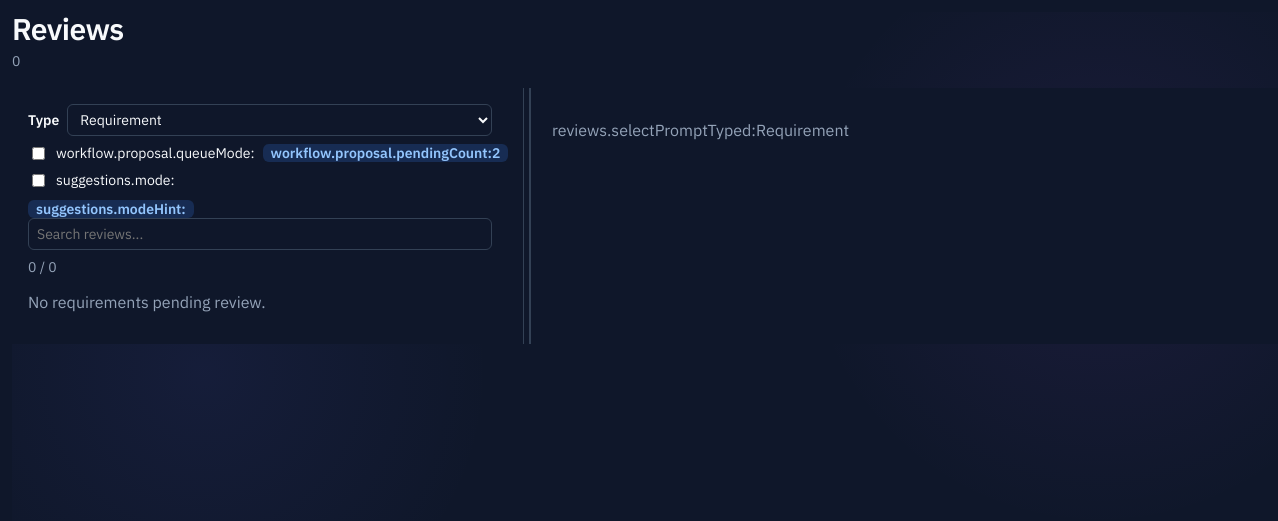
Test: ReviewsView — AI proposals queue (#1089) › falls back to a generic AI label when no proposer was recorded
This screenshot has width=1278, height=521.
Step 1. Click the checkbox with test id "reviews-queue-mode-checkbox" → (38, 153), box [32,146,45,160]
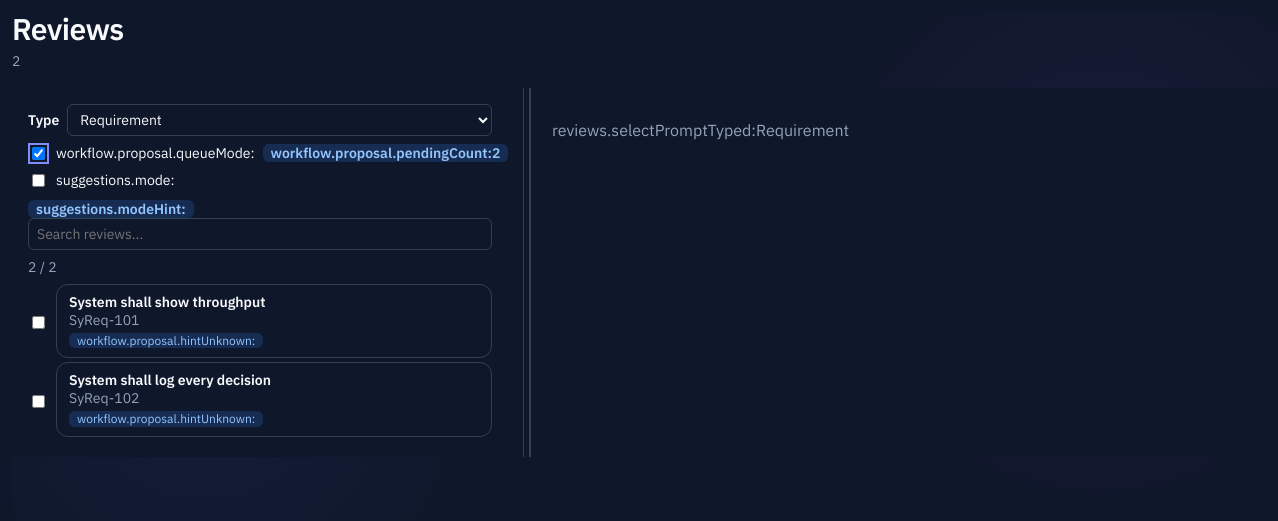
Step 2. Click the button with test id "review-list-item-req-prop-1" → (167, 302), box [56,284,492,358]
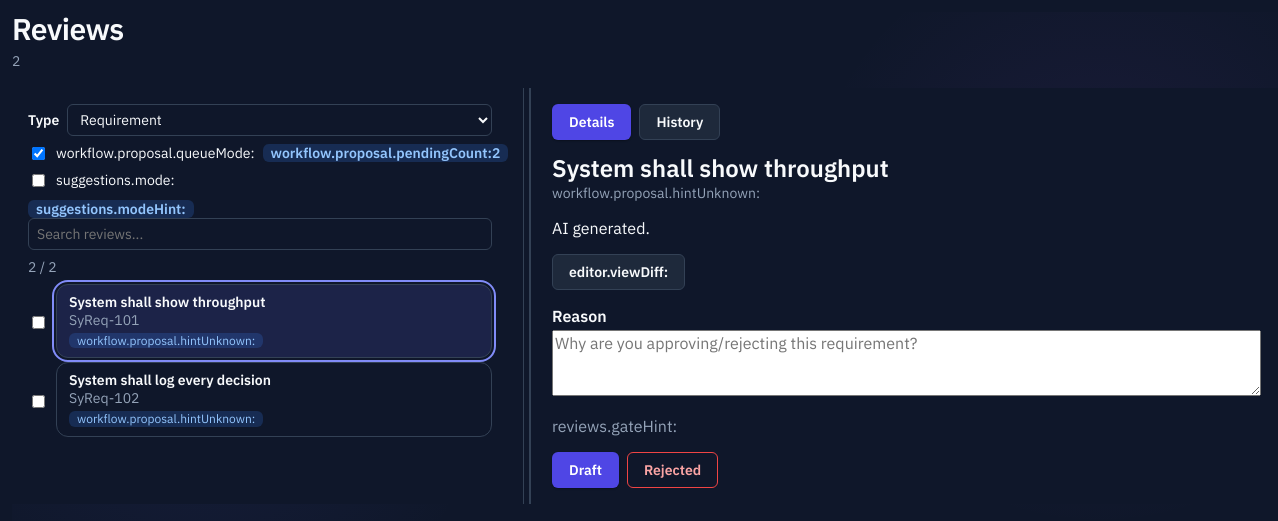
Check: the text with test id "review-proposal-origin" shows "workflow.proposal.hintUnknown", box [552,184,760,202]
